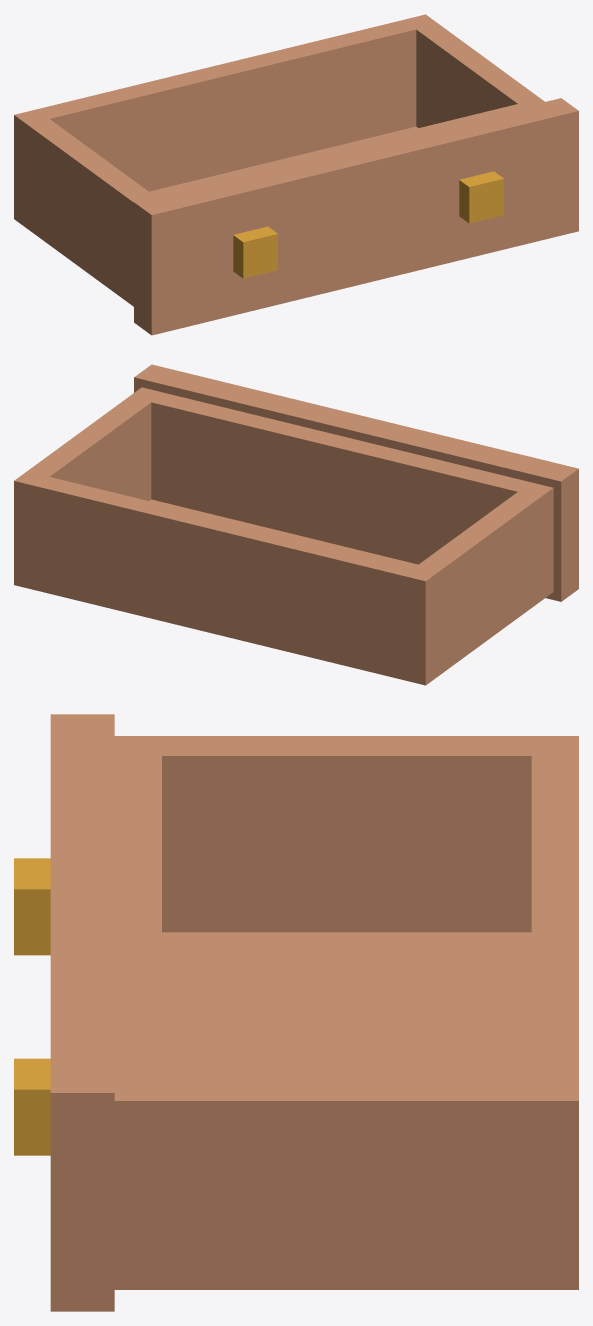
The model's file is drawer_Drawer.fbx.
3 renders of one model, top to bottom at view 1: azimuth 30°, elevation 25°; view 2: azimuth 150°, elevation 25°; view 3: azimuth 270°, elevation 25°, orthographic. The views are drawn at different scales.
Visible parts, largest first — view 1: Cube.004; view 2: Cube.004; view 3: Cube.004.
Boxes of the visible parts, x1,y1,x2,y2 form: Cube.004: (14, 14, 578, 335); Cube.004: (14, 364, 578, 685); Cube.004: (14, 714, 578, 1311).
Bounding box in the file's own units: 296 × 79.63 × 187.
